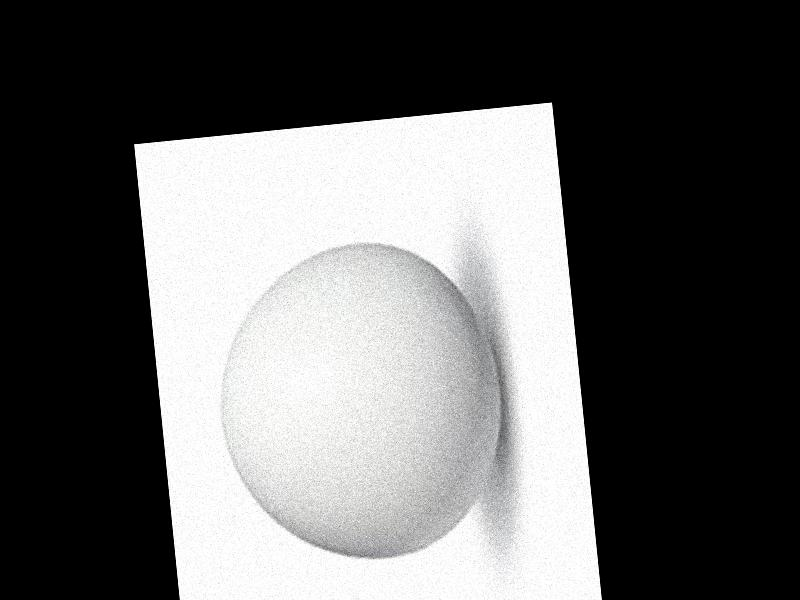Eggs: (203, 232, 513, 567)
